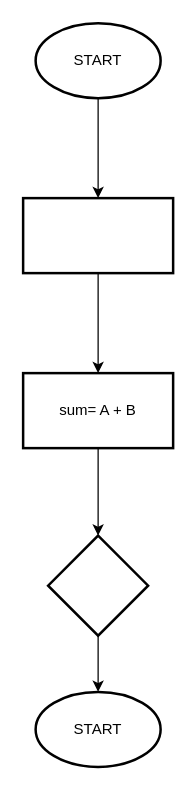
This 195x789 diagram has some shape labels left out. The shapes that lost their labels are listed below. From the top down, each one's centre as x and y in pixels, then its label:
[97,235]: sumA,sumB
[97,585]: prinf
